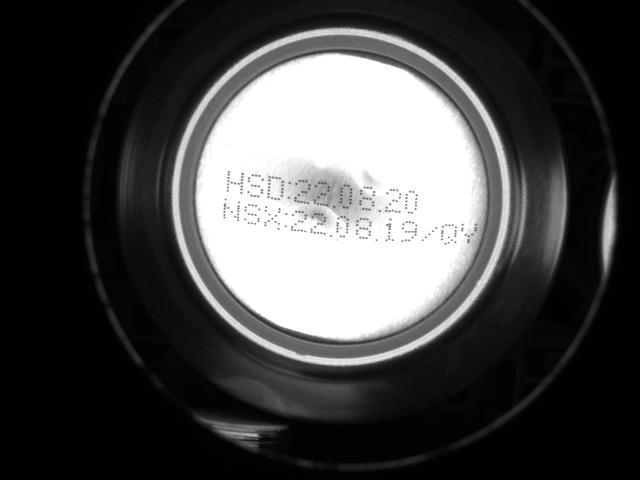.: (331, 192, 337, 211), (328, 221, 334, 240), (376, 195, 382, 214), (373, 225, 379, 244)
/: (419, 221, 438, 244)
0: (338, 183, 355, 210), (334, 213, 351, 240), (401, 188, 418, 215)
1: (384, 215, 396, 243)
2: (294, 177, 311, 207), (290, 204, 307, 234), (312, 178, 329, 208), (309, 209, 326, 239), (384, 185, 401, 215)
8: (358, 184, 377, 212), (354, 214, 373, 242)
9: (400, 218, 417, 247)
:: (286, 180, 293, 202), (282, 206, 289, 228)
D: (266, 172, 284, 202)
H: (224, 168, 245, 197)
N: (220, 196, 242, 224)
Q: (439, 221, 458, 247)
S: (244, 171, 266, 201), (241, 198, 263, 228)
X: (262, 203, 282, 230)
Y: (460, 220, 477, 248)
